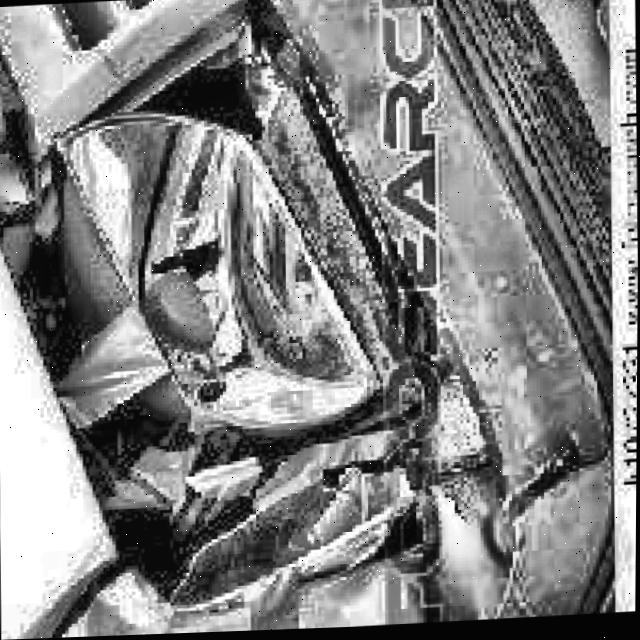head_lamp: (135, 318, 395, 585), (39, 82, 307, 337)
